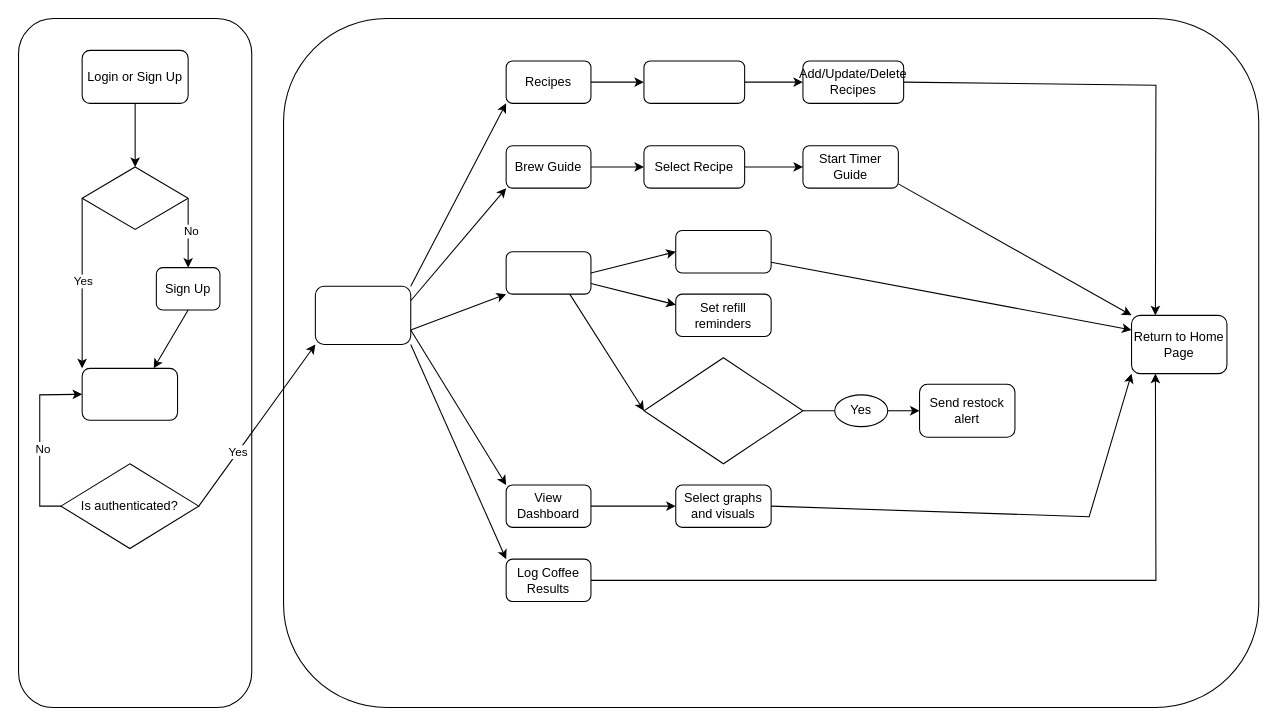
This 1277x726 diagram has some shape labels left out. Here are the shapes that lost their labels. From the top down, the box of each, then its label:
(643, 60, 745, 103): View Recipes
(81, 166, 188, 229): Already user?
(675, 229, 771, 273): Add/Update/Delete Coffees
(505, 251, 591, 294): Current Coffees
(314, 285, 411, 344): Home Page
(81, 367, 178, 420): Enter credentials
(643, 357, 803, 464): Grams remaining < repurchase thresholf
